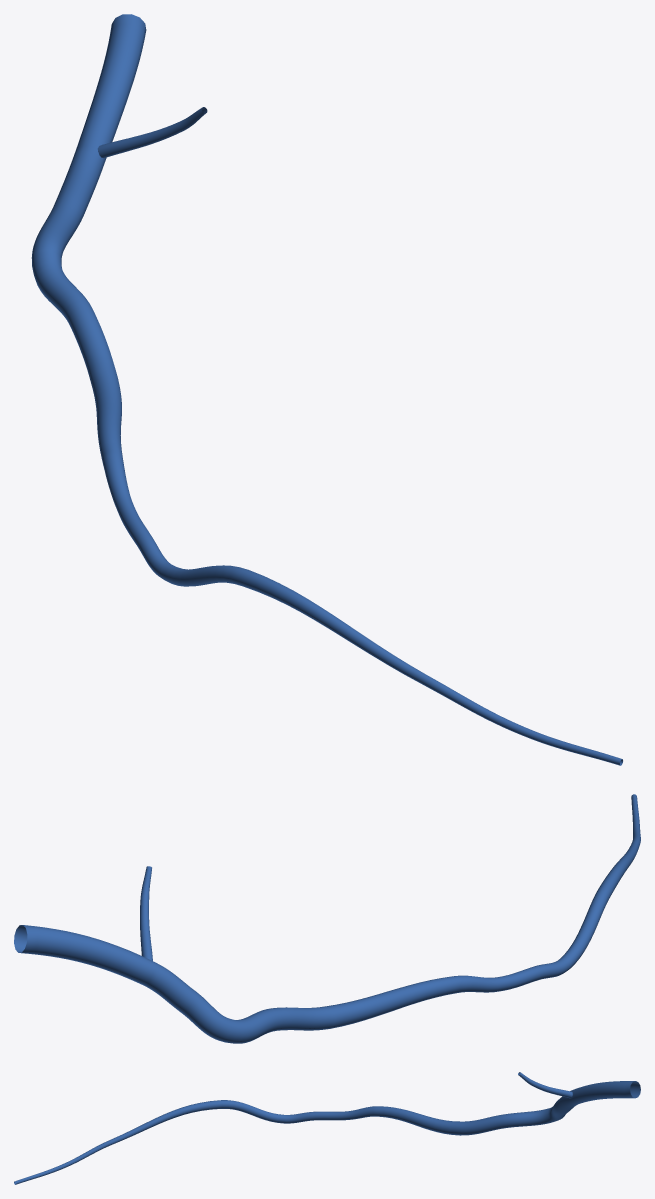
3 renders of one model, top to bottom at view 1: azimuth 30°, elevation 25°; view 2: azimuth 150°, elevation 25°; view 3: azimuth 270°, elevation 25°, orthographic. The views are drawn at different scales.
Visible parts, largest first — view 1: 左侧内眦静脉; view 2: 左侧内眦静脉; view 3: 左侧内眦静脉.
Boxes of the visible parts, box(x1,y1,x2,y2) form: 左侧内眦静脉: box(31, 14, 622, 765); 左侧内眦静脉: box(14, 794, 640, 1043); 左侧内眦静脉: box(14, 1072, 640, 1184).
Bounding box in the file's own units: 0.0322 × 0.0248 × 0.1051.
